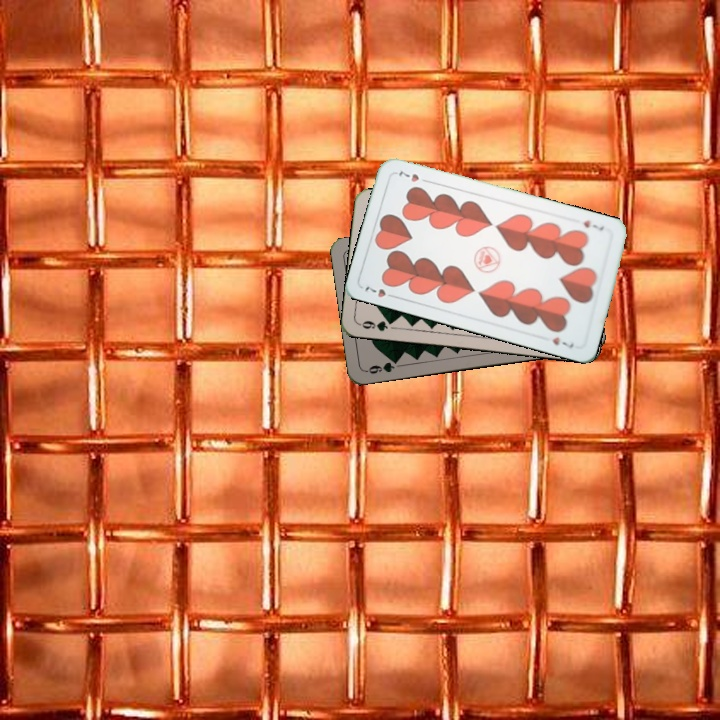G9: (362, 355, 402, 377), (356, 316, 397, 334)
H7: (360, 282, 399, 301), (580, 216, 607, 234)
